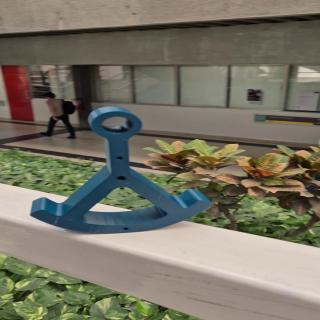haptic: (29, 106, 214, 234)
